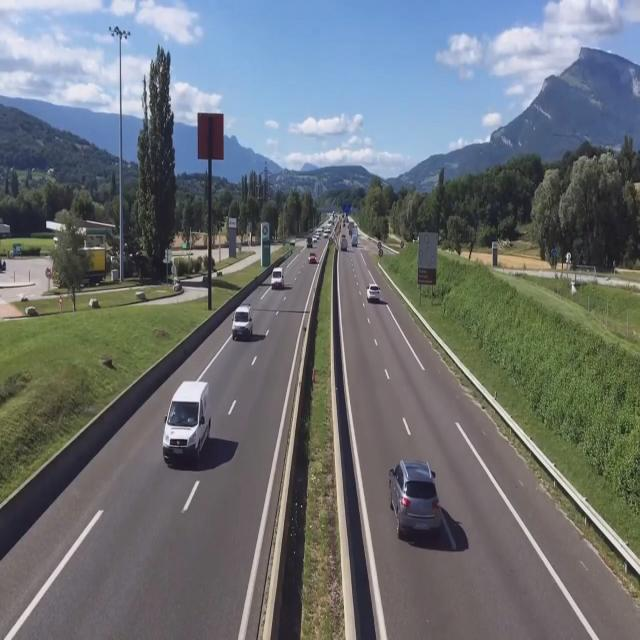car: (390, 460, 445, 546), (163, 380, 214, 468), (232, 306, 254, 342), (271, 267, 286, 291), (366, 283, 380, 303)
